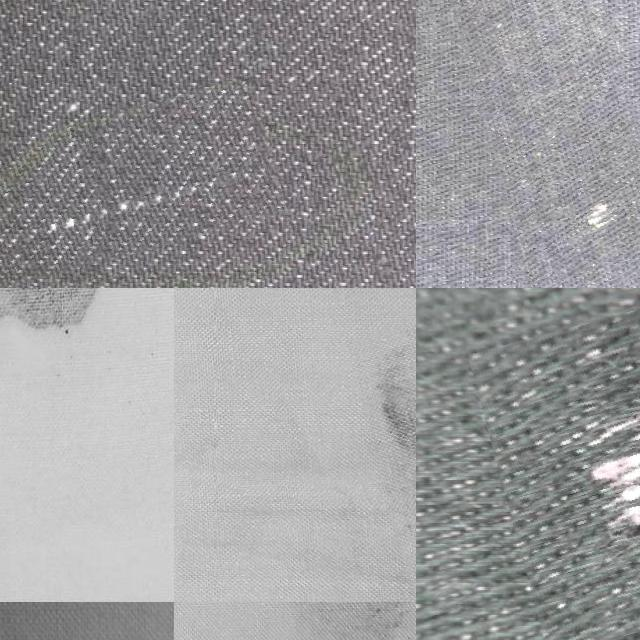Thread_other: (361, 304, 416, 610), (0, 288, 173, 363), (256, 602, 416, 640)
stains: (442, 0, 640, 288), (0, 99, 281, 288), (485, 310, 640, 640)
